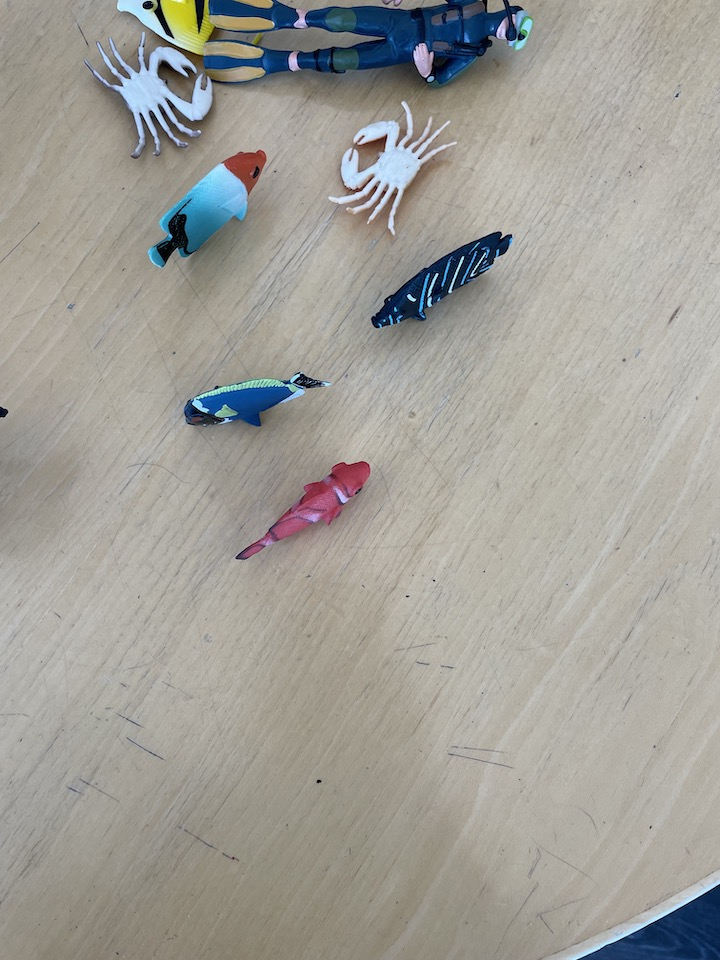crab: (328, 101, 458, 243), (86, 33, 217, 167)
danger: (109, 1, 216, 61)
diver: (192, 1, 536, 92)
fish: (149, 145, 274, 274), (366, 227, 515, 332), (230, 456, 373, 565), (184, 362, 339, 432)
